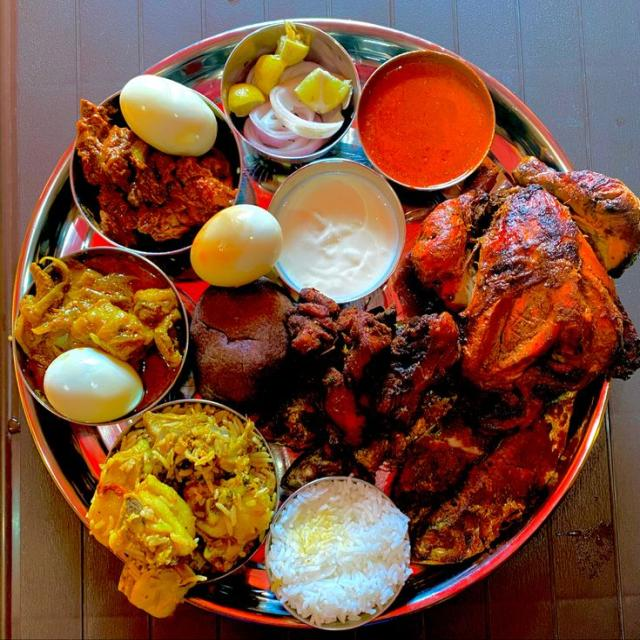non veg meals: (12, 9, 640, 631)
